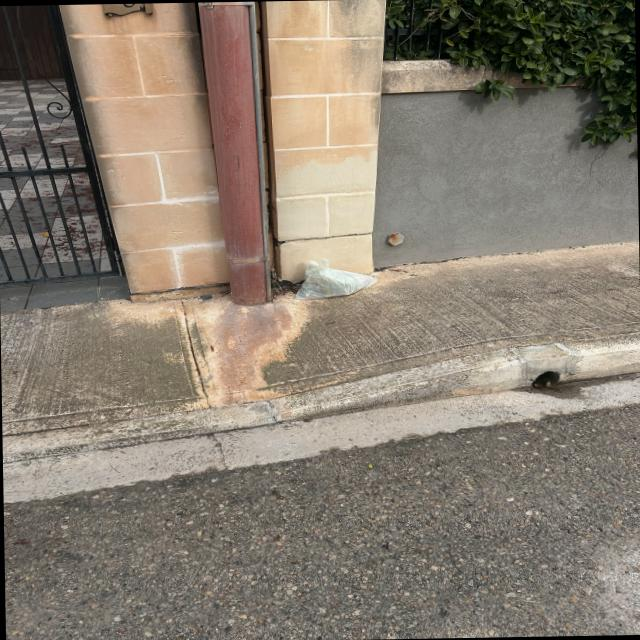white_bag: (290, 255, 382, 304)
